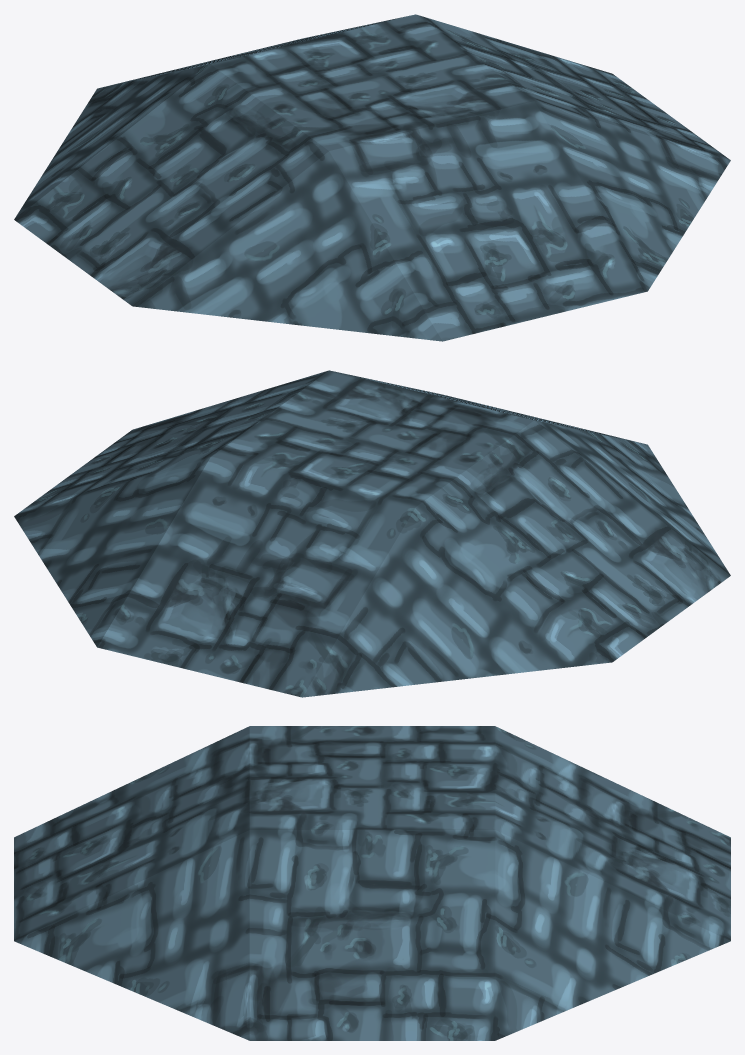
File: floorpiece_mesh 1.obj
The picture shows the model from 3 angles, top to bottom: view 1: azimuth 30°, elevation 25°; view 2: azimuth 150°, elevation 25°; view 3: azimuth 270°, elevation 25°; orthographic projection. The views are drawn at different scales.
Parts seen in each view (by area): view 1: polySurface2; view 2: polySurface2; view 3: polySurface2.
Part boxes in pixels (box(x1,y1,x2,y2)): polySurface2: box(14, 14, 730, 341); polySurface2: box(14, 370, 730, 697); polySurface2: box(14, 726, 730, 1040).
Size of the model in its own units: 14.59 by 2.5 by 14.59.
